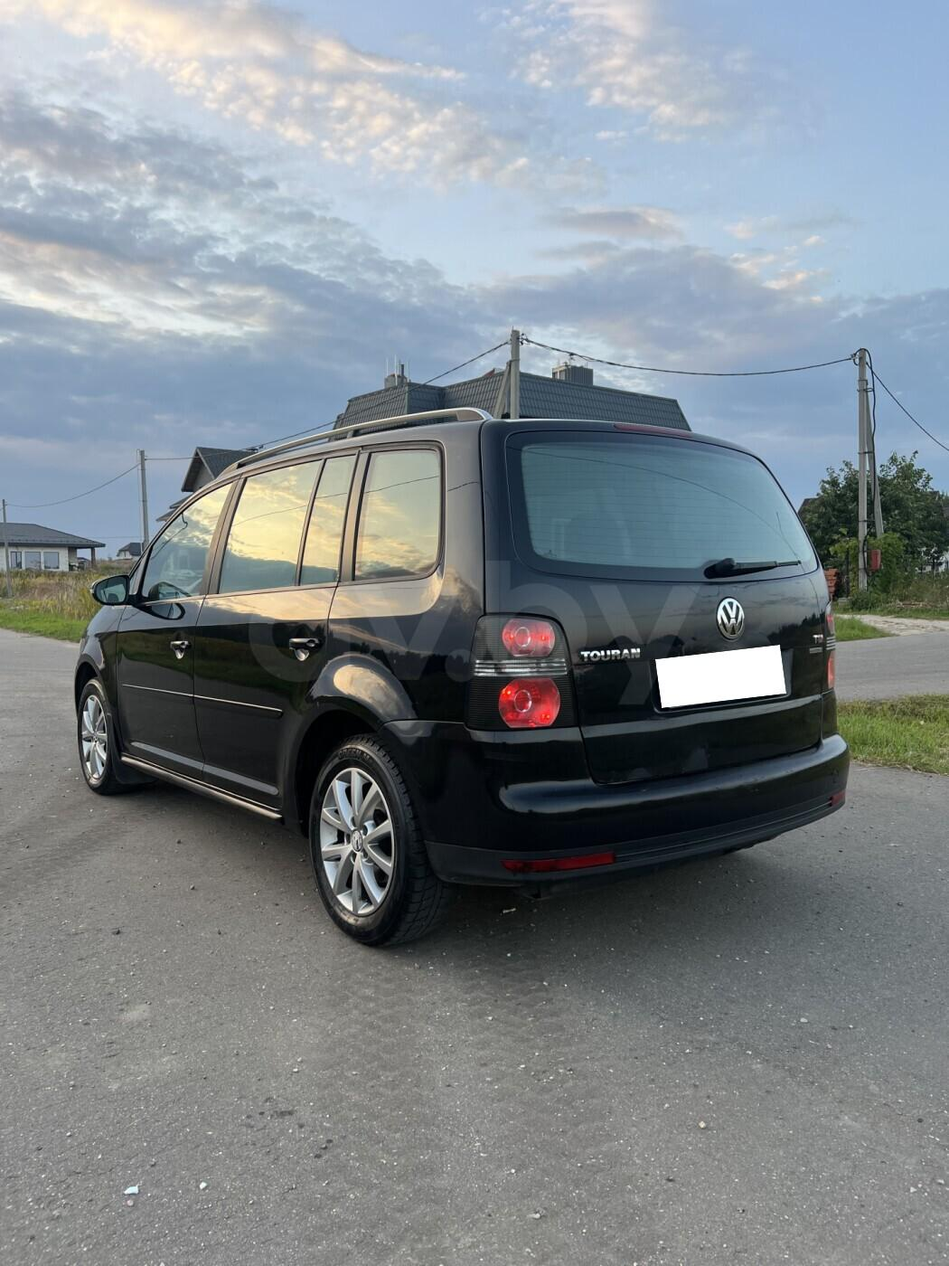Touran_2006-2010: (72, 407, 853, 953)
